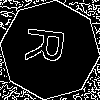R: (25, 25, 75, 67)
